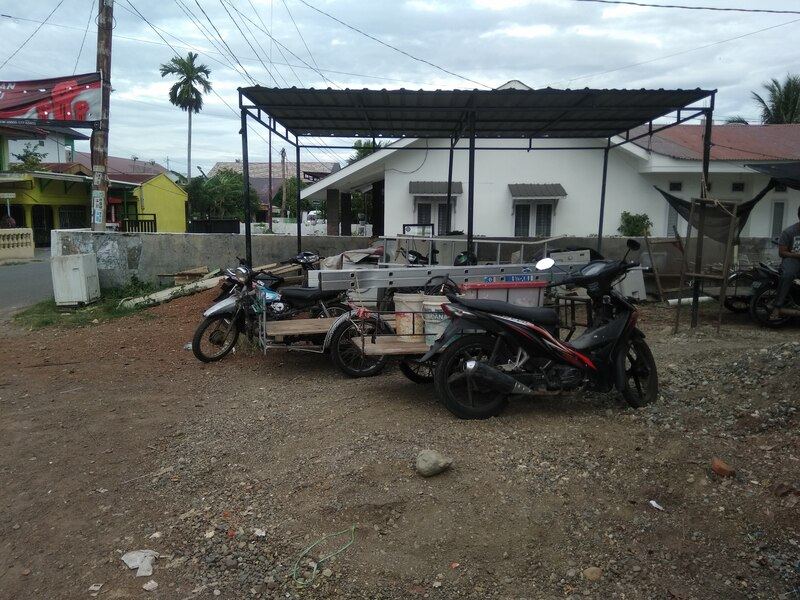becak barang: (348, 239, 665, 416), (188, 242, 415, 381)
